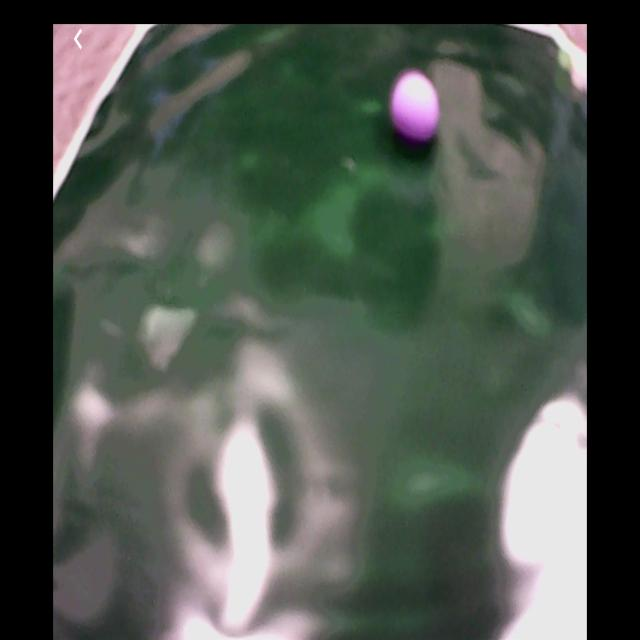ball: (391, 71, 442, 140)
